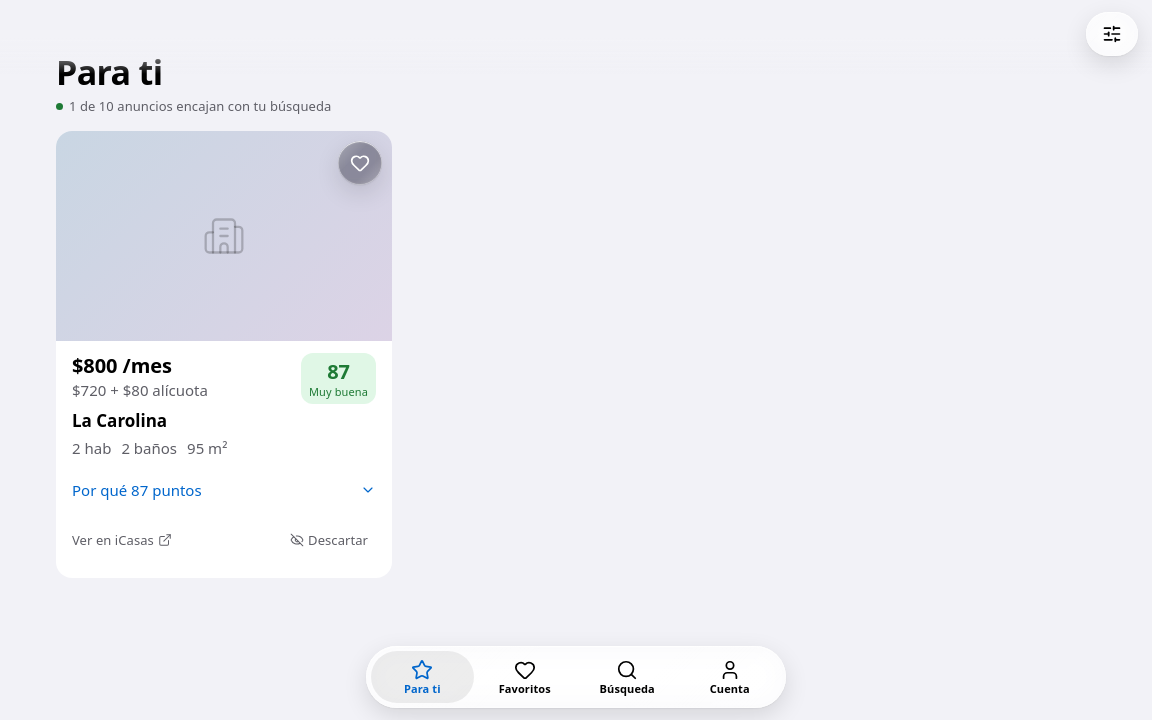
it: Saving and discarding listings › hides a discarded listing and lets the user undo it
Click the button with aria-label "Descartar La Carolina".
click(329, 540)  # box [282,518,376,562]
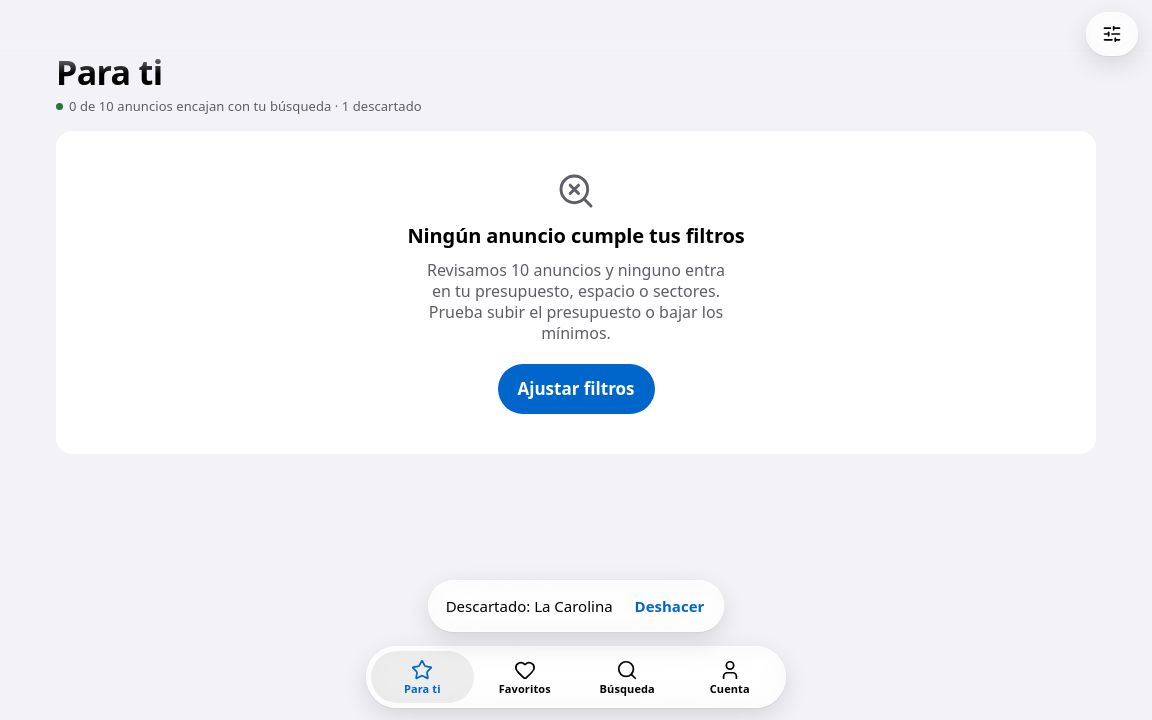
Expected: the message shows "Descartado: La Carolina", [446,596,613,616]
Click the button "Deshacer".
click(669, 606)  # box [621,584,718,628]
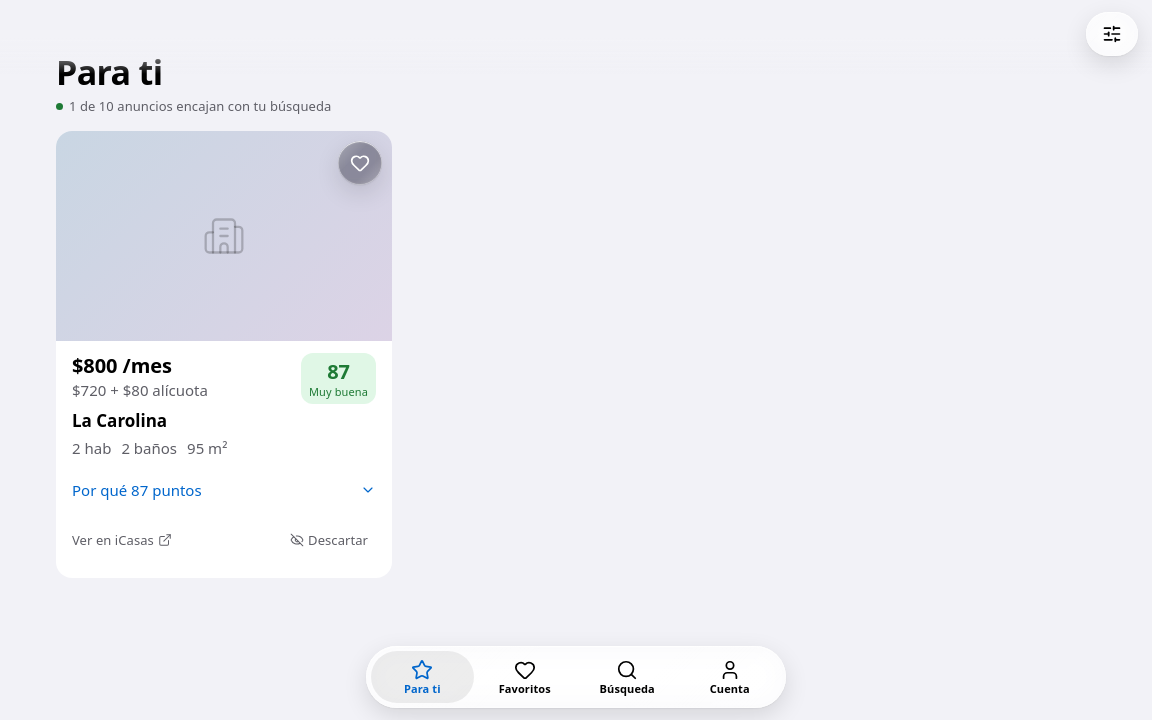
Expected: the element named "Departamento amoblado en La Carolina" is shown, [56,131,392,578]
